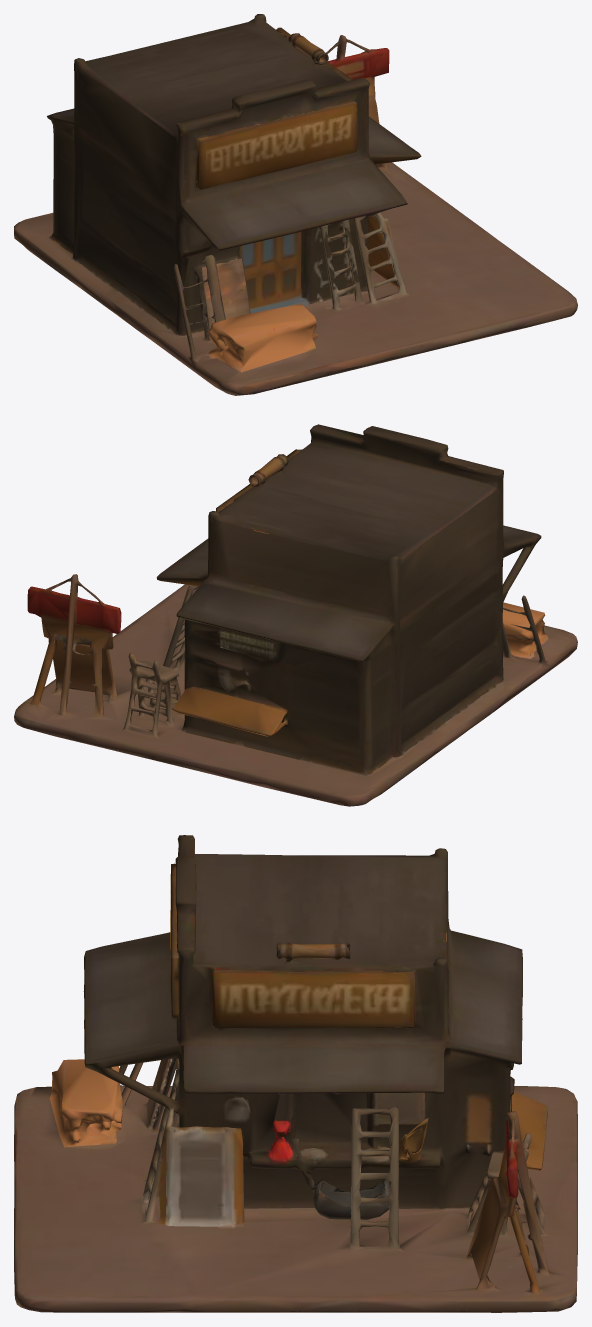
The model's file is hardware.glb.
3 renders of one model, top to bottom at view 1: azimuth 30°, elevation 25°; view 2: azimuth 150°, elevation 25°; view 3: azimuth 270°, elevation 25°, orthographic. The views are drawn at different scales.
Bounding box in the file's own units: 0.9086 × 0.564 × 1.
1 material, 1 textured.
